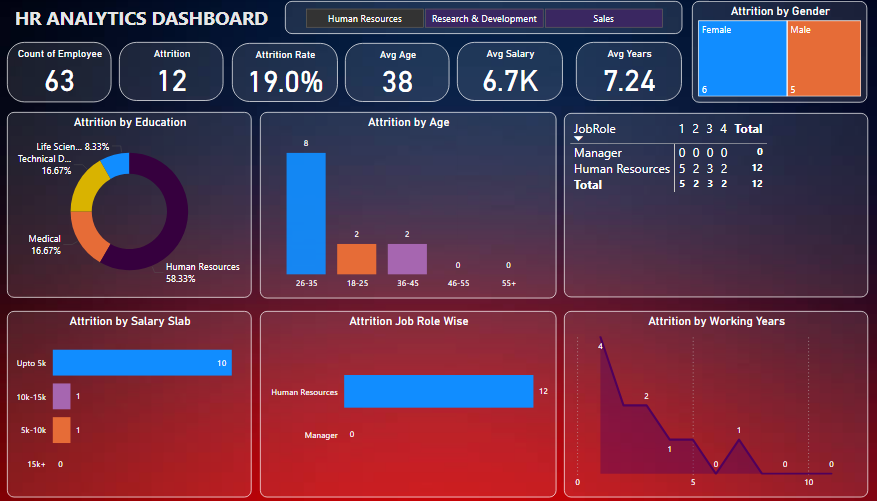

Layout of this report page (visuals, bound fields, positions):
{"tool":"powerbi","page":{"name":"Page 1","canvas":[1280,720],"ordinal":0},"visuals":[{"type":"card","title":"Count of Employee","fields":{"Values":["CountNonNull(HR_Analytics.EmpID)"]},"box":[28.1,63.6,149.5,85.8],"z":0},{"type":"card","title":"Attrition","fields":{"Values":["Sum(HR_Analytics.AttritionCount)"]},"box":[187.9,63.6,149.5,84.3],"z":1000},{"type":"card","title":"Attrition Rate","fields":{"Values":["HR_Analytics.AttritionRate"]},"box":[349.2,65.1,150.9,84.3],"z":2000},{"type":"card","title":"Avg Age","fields":{"Values":["Avg(HR_Analytics.Age)"]},"box":[510.5,65.1,149.5,84.3],"z":3000},{"type":"card","title":"Avg Salary","fields":{"Values":["Avg(HR_Analytics.MonthlyIncome)"]},"box":[670.3,63.6,150.9,84.3],"z":4000},{"type":"card","title":"Avg Years","fields":{"Values":["Avg(HR_Analytics.YearsAtCompany)"]},"box":[840.5,63.6,150.9,84.3],"z":5000},{"type":"donutChart","title":"Attrition by Education","fields":{"Y":["Sum(HR_Analytics.AttritionCount)"],"Category":["HR_Analytics.EducationField"]},"box":[28.1,164.3,349.2,264.9],"z":6000},{"type":"columnChart","title":"Attrition by Age","fields":{"Category":["HR_Analytics.AgeGroup"],"Y":["Sum(HR_Analytics.AttritionCount)"]},"box":[389.5,163.8,422.5,265.6],"z":7000},{"type":"pivotTable","fields":{"Rows":["HR_Analytics.JobRole"],"Columns":["HR_Analytics.JobSatisfaction"],"Values":["Sum(HR_Analytics.AttritionCount)"]},"box":[822.8,165.7,433.6,263.4],"z":8000},{"type":"barChart","title":"Attrition by Salary Slab","fields":{"Category":["HR_Analytics.SalarySlab"],"Y":["Sum(HR_Analytics.AttritionCount)"]},"box":[28.1,448.4,349.2,266.4],"z":9000},{"type":"barChart","title":"Attrition Job Role Wise","fields":{"Category":["HR_Analytics.JobRole"],"Y":["Sum(HR_Analytics.AttritionCount)"]},"box":[389.2,448.4,423.2,266.4],"z":10000},{"type":"areaChart","title":"Attrition by Working Years","fields":{"Category":["HR_Analytics.YearsAtCompany"],"Y":["Sum(HR_Analytics.AttritionCount)"]},"box":[822.8,448.4,433.6,266.4],"z":11000},{"type":"treemap","title":"Attrition by Gender","fields":{"Group":["HR_Analytics.Gender"],"Values":["Sum(HR_Analytics.AttritionCount)"]},"box":[1006.2,5.9,250.1,145],"z":12000},{"type":"slicer","fields":{"Values":["HR_Analytics.Department"]},"box":[424.7,5.9,566.8,47.4],"z":13000},{"type":"textbox","box":[28.1,5.9,383.3,47.4],"z":14000}]}

Visuals, with their boxes in screenshot pixels (x1, y1, x2, y2), scaled from the page's 1280x720 canvas onto the 877x501 screenshot:
"Count of Employee" card: {"left": 19, "top": 44, "right": 122, "bottom": 104}
"Attrition" card: {"left": 129, "top": 44, "right": 231, "bottom": 103}
"Attrition Rate" card: {"left": 239, "top": 45, "right": 343, "bottom": 104}
"Avg Age" card: {"left": 350, "top": 45, "right": 452, "bottom": 104}
"Avg Salary" card: {"left": 459, "top": 44, "right": 563, "bottom": 103}
"Avg Years" card: {"left": 576, "top": 44, "right": 679, "bottom": 103}
"Attrition by Education" donutChart: {"left": 19, "top": 114, "right": 259, "bottom": 299}
"Attrition by Age" columnChart: {"left": 267, "top": 114, "right": 556, "bottom": 299}
pivotTable - HR_Analytics.JobRole x HR_Analytics.JobSatisfaction: {"left": 564, "top": 115, "right": 861, "bottom": 299}
"Attrition by Salary Slab" barChart: {"left": 19, "top": 312, "right": 259, "bottom": 497}
"Attrition Job Role Wise" barChart: {"left": 267, "top": 312, "right": 557, "bottom": 497}
"Attrition by Working Years" areaChart: {"left": 564, "top": 312, "right": 861, "bottom": 497}
"Attrition by Gender" treemap: {"left": 689, "top": 4, "right": 861, "bottom": 105}
slicer - HR_Analytics.Department: {"left": 291, "top": 4, "right": 679, "bottom": 37}
textbox: {"left": 19, "top": 4, "right": 282, "bottom": 37}
